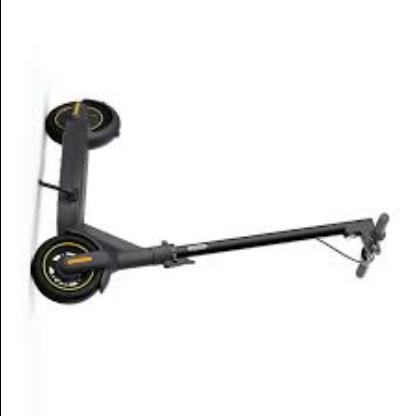bike: (29, 99, 395, 306)
